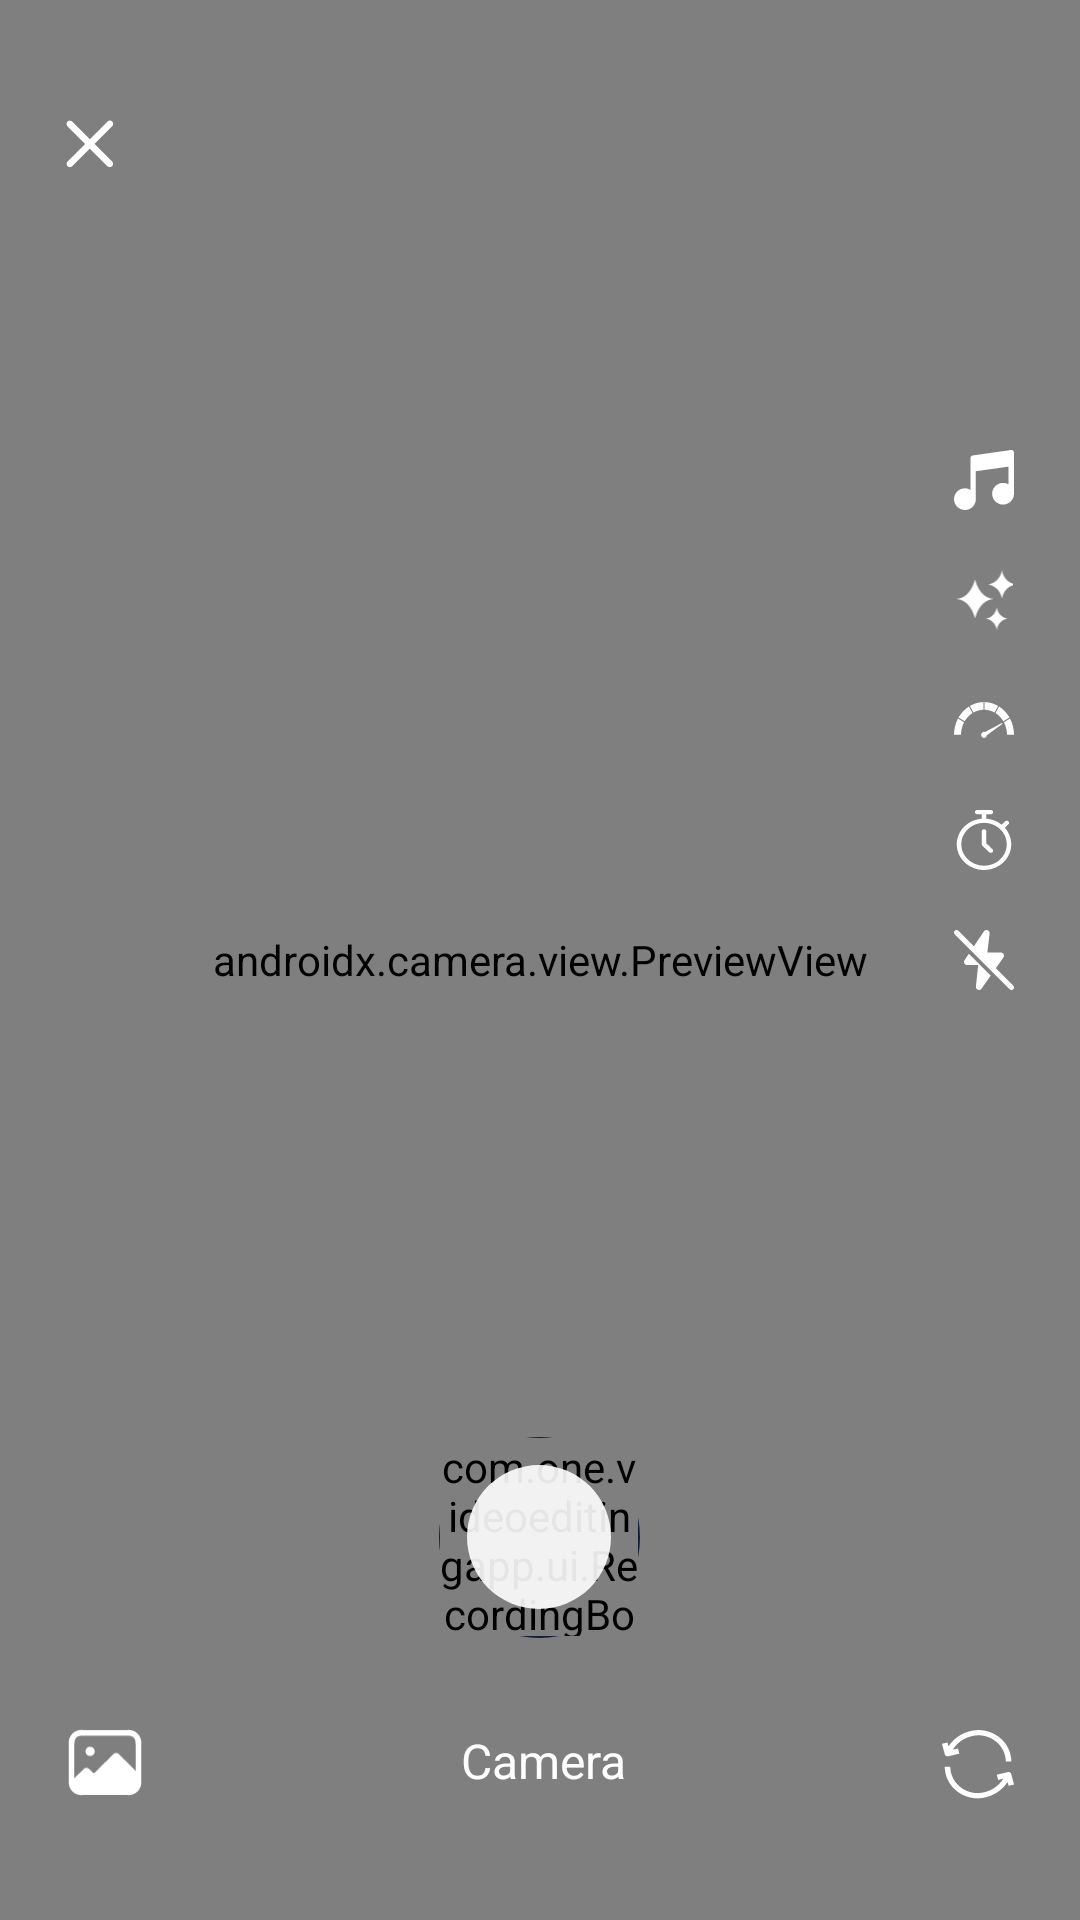

Screen size 1080×1920. Icon name, then its box in pixels as (x1, y1, x2, y2):
albums: (68, 1729, 142, 1796)
close: (66, 120, 113, 167)
flashoff: (954, 930, 1014, 990)
music: (954, 450, 1014, 510)
refresh: (942, 1730, 1014, 1799)
speed: (954, 702, 1014, 738)
stars: (957, 571, 1013, 629)
time: (956, 810, 1012, 870)
